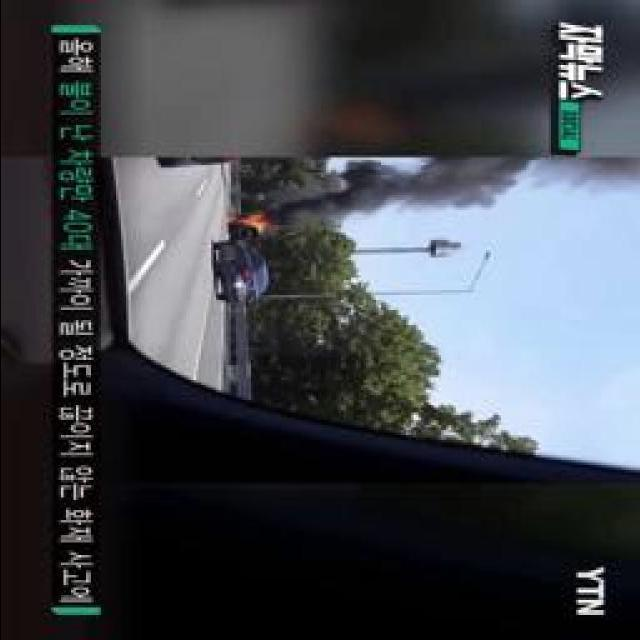Fire: (230, 210, 268, 235)
